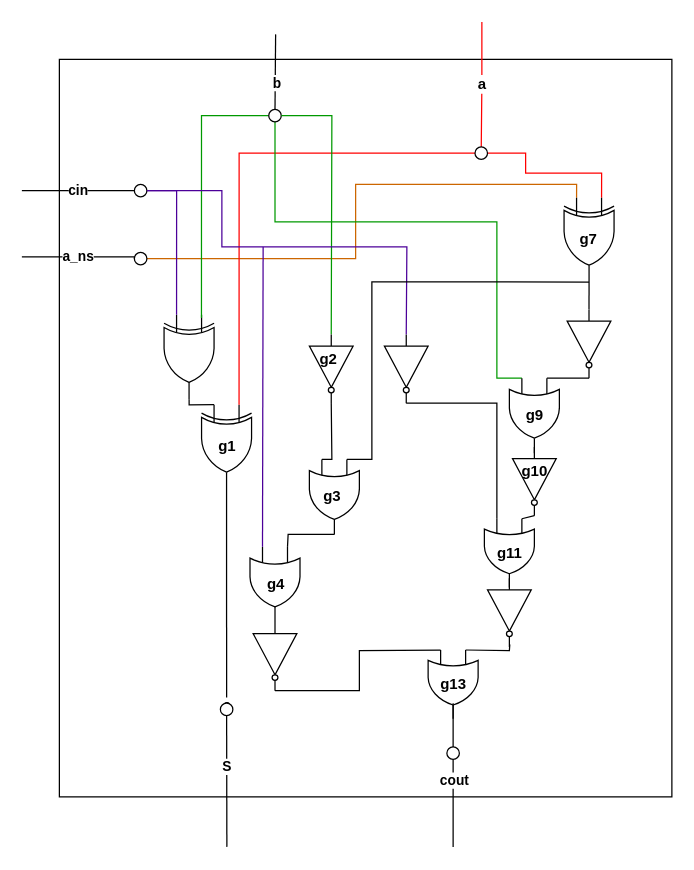
This 694x870 diagram has some shape labels left out. Here are the shapes that lost their labels. From the top down, the box of each, then its label:
(163, 314, 214, 399): g0
(566, 308, 611, 378): g8
(383, 333, 428, 403): g6
(486, 577, 531, 647): g12
(252, 621, 297, 691): g5
